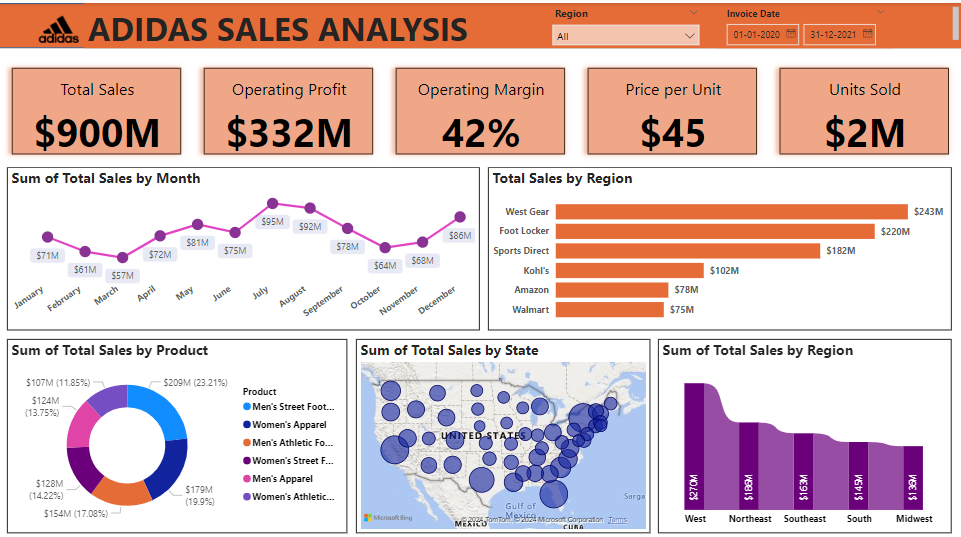

Layout of this report page (visuals, bound fields, positions):
{"tool":"powerbi","page":{"name":"Page 1","canvas":[1280,720],"ordinal":0},"visuals":[{"type":"shape","box":[0,0,1280,60],"z":0},{"type":"textbox","box":[112.9,0,1167.1,60],"z":1000},{"type":"image","box":[31.4,11.4,95.7,45.7],"z":2000},{"type":"lineChart","fields":{"Category":["Sales.Invoice Date.Variation.Date Hierarchy.Month"],"Y":["Sum(Sales.Total Sales)"]},"box":[10.2,218,627.8,216.6],"z":3000},{"type":"barChart","title":"Total Sales by Region","fields":{"Y":["Sum(Sales.Total Sales)"],"Category":["Sales.Retailer"]},"box":[649.8,218,616.1,216.6],"z":4000},{"type":"map","fields":{"Category":["Sales.State"],"Size":["Sum(Sales.Total Sales)"]},"box":[474.1,446.3,390.7,257.6],"z":5000},{"type":"donutChart","fields":{"Category":["Sales.Product"],"Y":["Sum(Sales.Total Sales)"]},"box":[10.2,446.3,452.2,257.6],"z":6000},{"type":"cardVisual","fields":{"Data":["Sum(Sales.Total Sales)","Sum(Sales.Operating Profit)","Avg(Sales.Operating Margin)","Avg(Sales.Price per Unit)","Sum(Sales.Units Sold)"]},"box":[0,68.8,1280.5,149.3],"z":7000},{"type":"ribbonChart","fields":{"Category":["Sales.Region"],"Y":["Sum(Sales.Total Sales)"]},"box":[876,446,390,258],"z":8000},{"type":"slicer","fields":{"Values":["Sales.Region"]},"box":[725.9,0,215.1,57.1],"z":9000},{"type":"slicer","fields":{"Values":["Sales.Invoice Date"]},"box":[954.1,0,234.1,60],"z":10000}]}

Visuals, with their boxes in screenshot pixels (x1, y1, x2, y2), scaled from the page's 1280x720 canvas onto the 961x537 screenshot:
shape: <region>0, 0, 960, 45</region>
textbox: <region>85, 0, 960, 45</region>
image: <region>24, 9, 95, 43</region>
lineChart - Sales.Invoice Date.Variation.Date Hierarchy.Month x Sum(Sales.Total Sales): <region>8, 163, 479, 324</region>
"Total Sales by Region" barChart: <region>488, 163, 950, 324</region>
map - Sales.State x Sum(Sales.Total Sales): <region>356, 333, 649, 525</region>
donutChart - Sales.Product x Sum(Sales.Total Sales): <region>8, 333, 347, 525</region>
cardVisual - Sum(Sales.Total Sales) x Sum(Sales.Operating Profit): <region>0, 51, 960, 163</region>
ribbonChart - Sales.Region x Sum(Sales.Total Sales): <region>658, 333, 950, 525</region>
slicer - Sales.Region: <region>545, 0, 706, 43</region>
slicer - Sales.Invoice Date: <region>716, 0, 892, 45</region>
